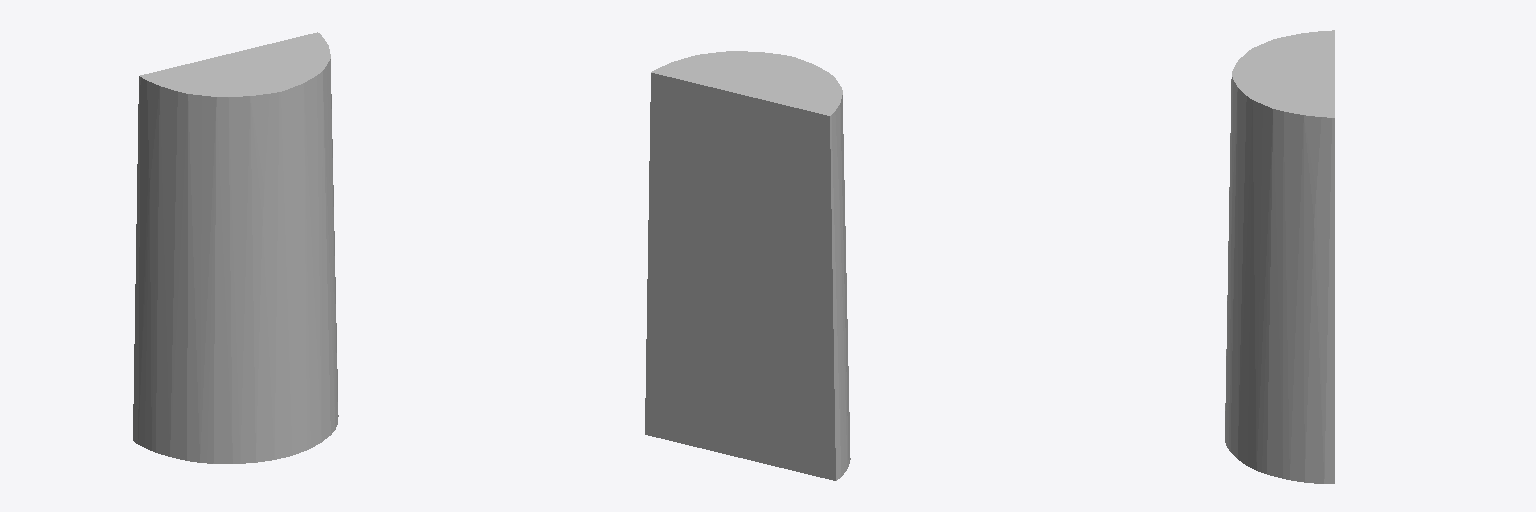
File: Wine_Bottle_1_collision_1.obj
3 views of the same model, side by side, from view 1: azimuth 30°, elevation 25°; view 2: azimuth 150°, elevation 25°; view 3: azimuth 270°, elevation 25° (orthographic).
Bounding box in the file's own units: 0.0349 × 0.0634 × 0.0174.